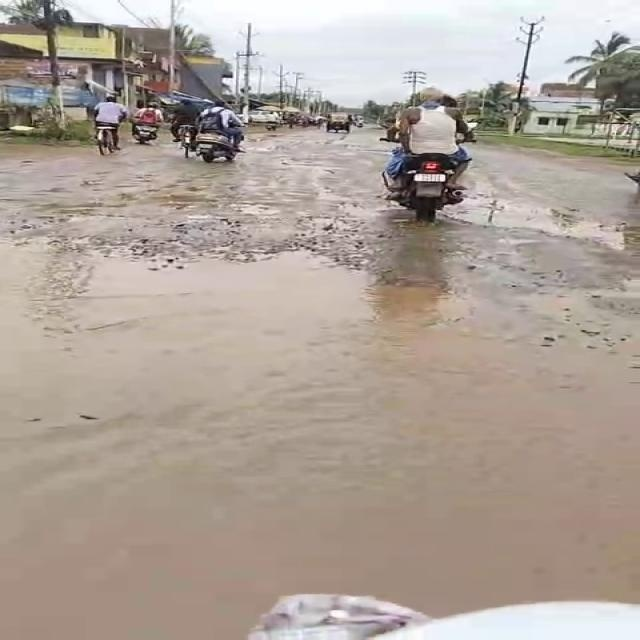pothole: (0, 242, 459, 343), (454, 186, 639, 256)
